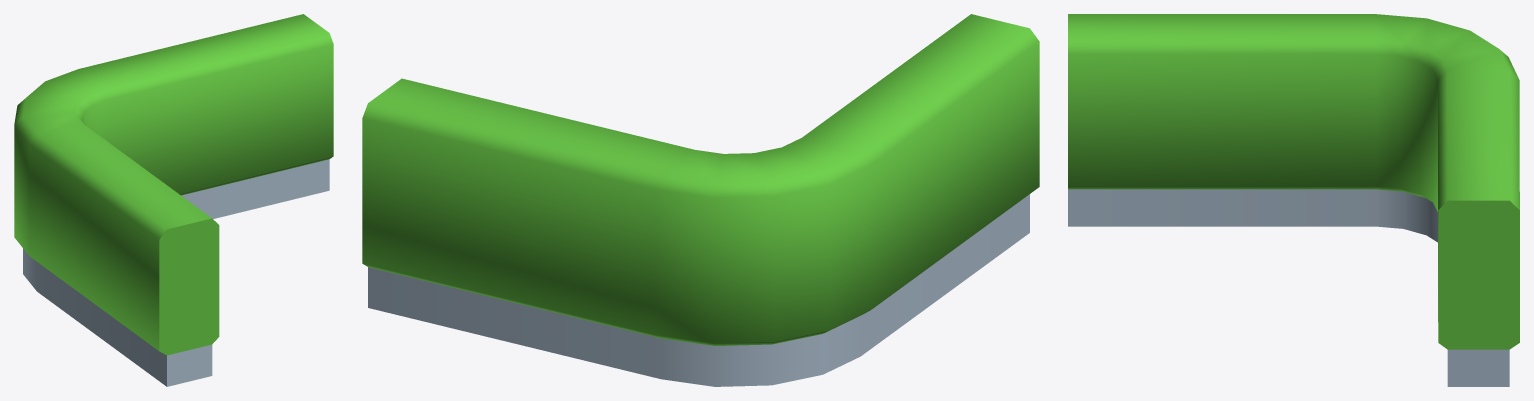
Rendered from Wall_corner.fbx.
3 views of the same model, side by side, from view 1: azimuth 30°, elevation 25°; view 2: azimuth 150°, elevation 25°; view 3: azimuth 270°, elevation 25° (orthographic). The views are drawn at different scales.
Visible parts, largest first — view 1: Fence_corner; view 2: Fence_corner; view 3: Fence_corner.
Part boxes in pixels (x1,y1,x2,y2): Fence_corner: (14,14,333,386); Fence_corner: (362,14,1039,386); Fence_corner: (1068,14,1519,386).
Bounding box in the file's own units: 2.2 × 1 × 2.2.
